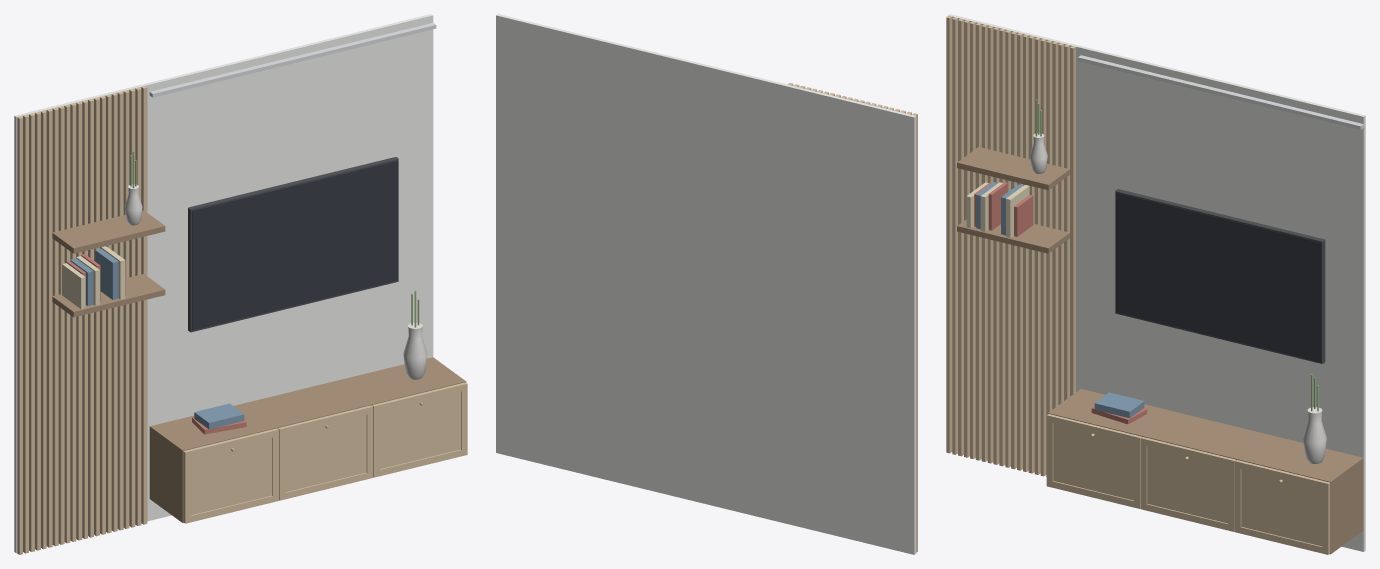
The picture shows the model from 3 angles, left to right: view 1: azimuth 30°, elevation 25°; view 2: azimuth 150°, elevation 25°; view 3: azimuth 330°, elevation 25°; orthographic projection.
Parts seen in each view (by area): view 1: Vách tivi Dài=2400; Sâu=350; view 2: Vách tivi Dài=2400; Sâu=350; view 3: Vách tivi Dài=2400; Sâu=350.
Boxes of the visible parts, bbox=[...] form: Vách tivi Dài=2400; Sâu=350: bbox=[14, 14, 467, 554]; Vách tivi Dài=2400; Sâu=350: bbox=[496, 14, 917, 554]; Vách tivi Dài=2400; Sâu=350: bbox=[946, 14, 1365, 554].
Size of the model in its own units: 2.4 by 2.4 by 0.39.
